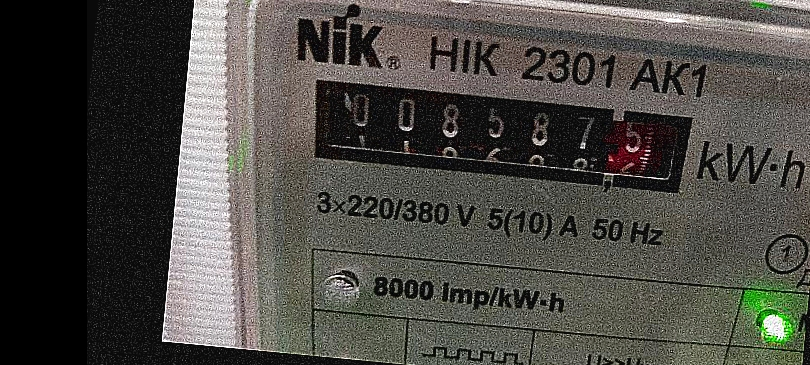0: (393, 92, 420, 134)
1: (347, 88, 375, 131)
5: (621, 115, 648, 157), (483, 102, 510, 142)
7: (572, 111, 598, 154)
8: (436, 98, 465, 141), (528, 107, 553, 150)
screen: (287, 57, 714, 216)
